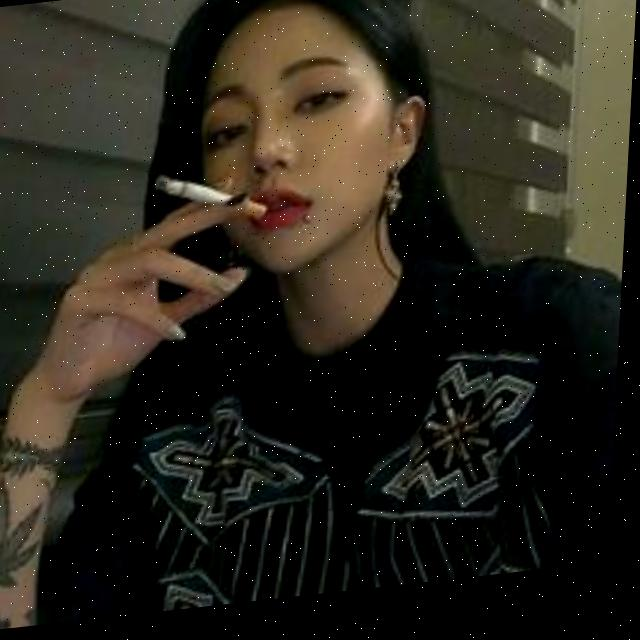cigarette: (155, 169, 273, 238)
